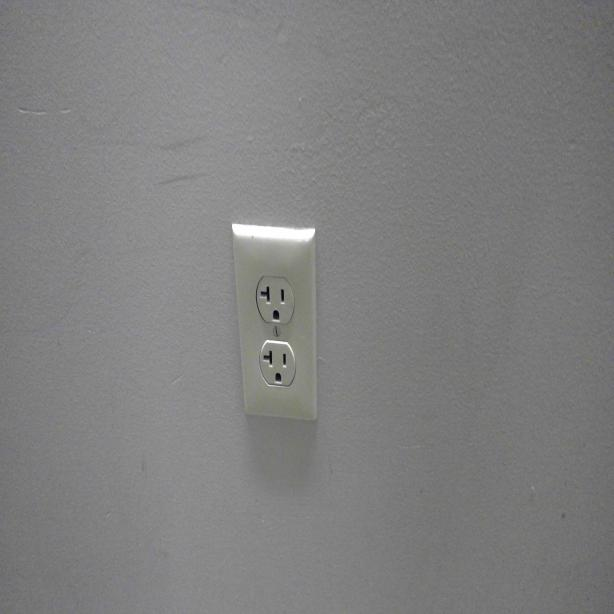typeb: (258, 272, 294, 326), (258, 341, 296, 388)
